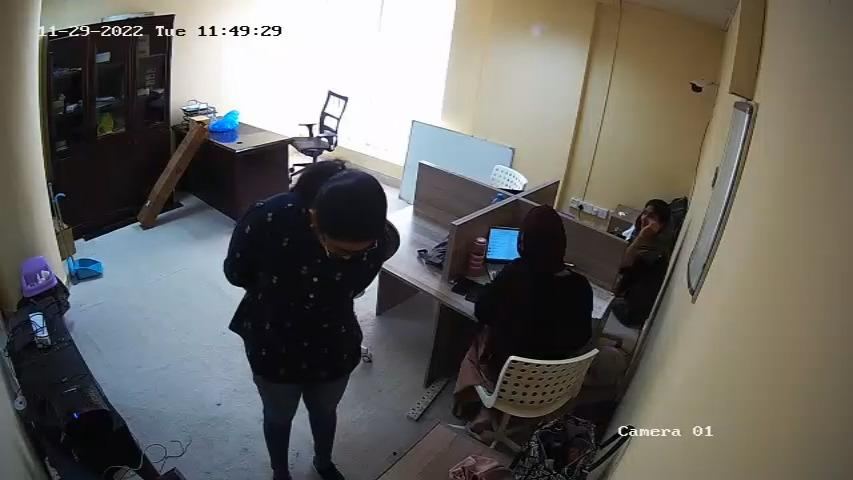no_apron: (248, 270, 362, 403)
